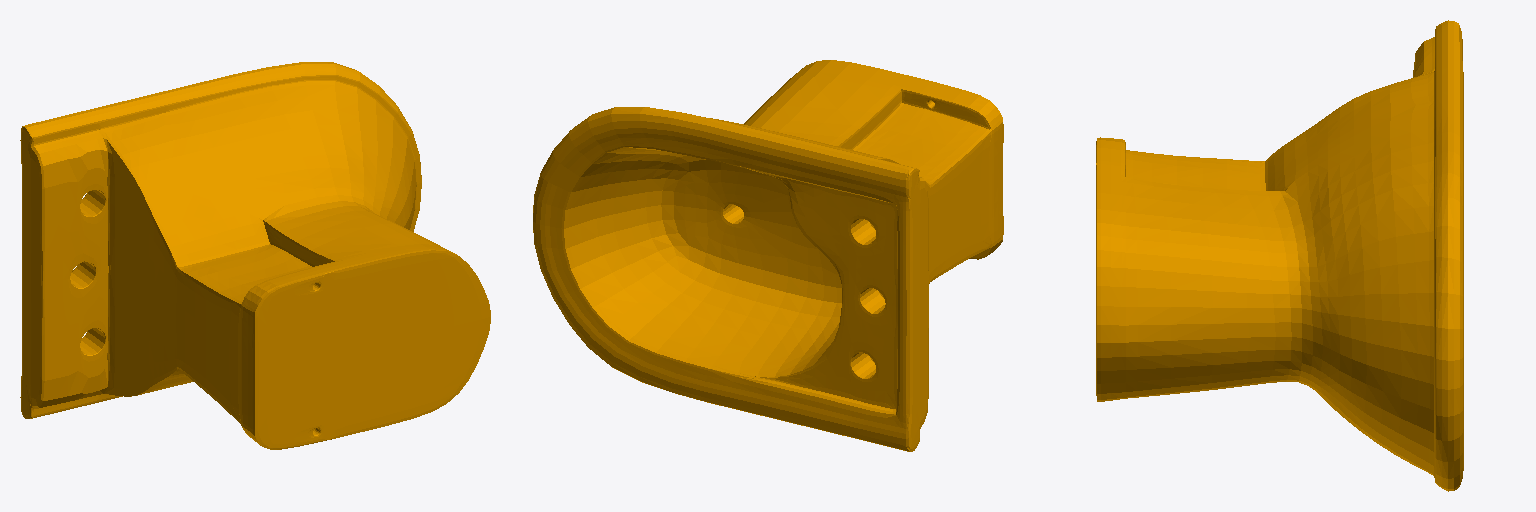
robot.urdf — 02808440_7c9e7480ab034225dcfe5e111166f221:
<?xml version='1.0'?>

<robot name="02808440_7c9e7480ab034225dcfe5e111166f221">
    <static>false</static>
    <link name="link">
        <inertial>
            <mass value="0.16948431795312274"/>
            <inertia ixx="0.00038105598048723854" ixy="5.069397010205011e-05" ixz="-4.861324744860775e-05"
                     iyy="-0.0008836450795959965" iyz="-6.053011355468669e-06" izz="-0.0005474192144601978"/>
        </inertial>
        <collision name="collision">
            <geometry>
                <mesh filename="package://miscnet/train/02808440_7c9e7480ab034225dcfe5e111166f221/collision_model_vhacd.obj"/>
            </geometry>
        </collision>
        <visual name="visual">
            <geometry>
                <mesh filename="package://miscnet/train/02808440_7c9e7480ab034225dcfe5e111166f221/visual_model.obj"/>
            </geometry>
        </visual>
    </link>
</robot>

--- What the picture shows (computed from the rendered views, not written in the file) ---
The picture shows the robot from 3 angles, left to right: view 1: azimuth 30°, elevation 25°; view 2: azimuth 150°, elevation 25°; view 3: azimuth 270°, elevation 25°; orthographic projection.
Model 02808440_7c9e7480ab034225dcfe5e111166f221 with 1 links and 0 joints (none), rooted at link, posed all joints at 0.
Links seen in each view (by area): view 1: link; view 2: link; view 3: link.
Boxes of the visible links, box(x1,y1,x2,y2) form: link: box(20, 62, 490, 449); link: box(533, 60, 1003, 451); link: box(1096, 20, 1463, 491).
Size in the robot's own frame: 0.1258 by 0.0928 by 0.0892 metres.
Meshes: 1 distinct files referenced, 1 mesh visuals loaded (1 OBJ).
